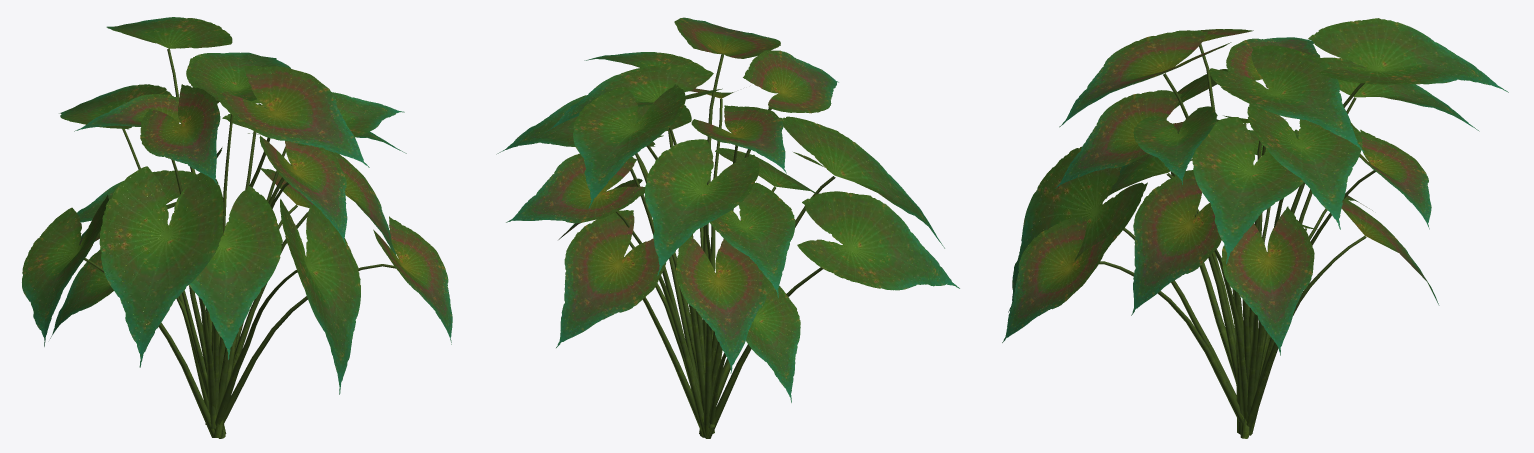
Rendered from Plant - Alien Plant 9-DwjtXfT3.glb.
The picture shows the model from 3 angles, left to right: view 1: azimuth 30°, elevation 25°; view 2: azimuth 150°, elevation 25°; view 3: azimuth 270°, elevation 25°; orthographic projection. The views are drawn at different scales.
Visible parts, largest first — view 1: PLant_9_L0(Clone); view 2: PLant_9_L0(Clone); view 3: PLant_9_L0(Clone).
Part boxes in pixels (x1,y1,x2,y2): PLant_9_L0(Clone): (22,17,452,438); PLant_9_L0(Clone): (496,17,959,438); PLant_9_L0(Clone): (1002,18,1508,438).
Bounding box in the file's own units: 2.25 × 2.01 × 2.33.
2 materials, 2 textured.
